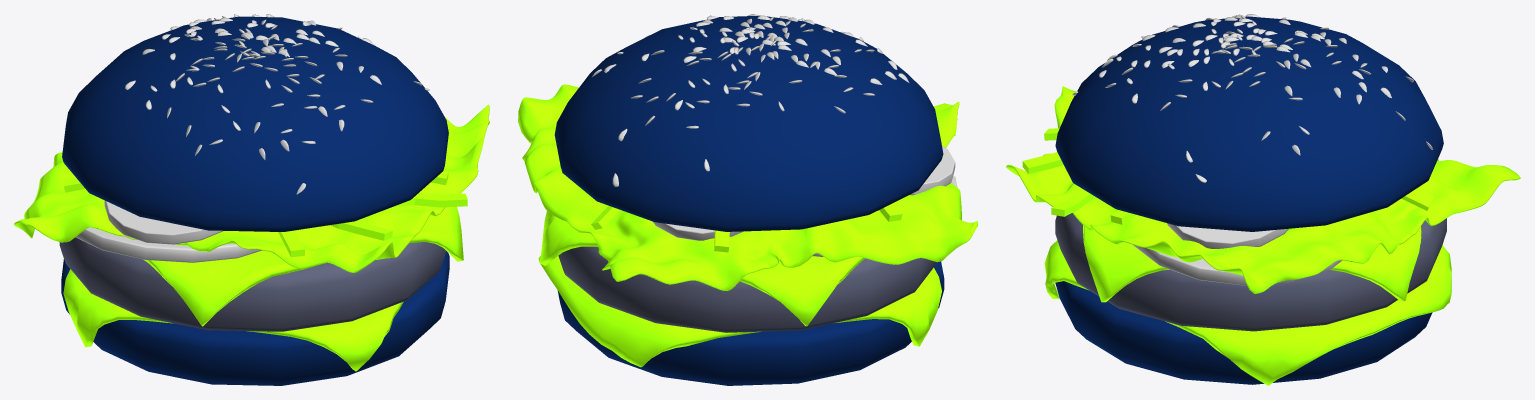
Rendered from Burger.fbx.
The picture shows the model from 3 angles, left to right: view 1: azimuth 30°, elevation 25°; view 2: azimuth 150°, elevation 25°; view 3: azimuth 270°, elevation 25°; orthographic projection.
Visible parts, largest first — view 1: buns_Sphere_001, burger_Cylinder, lettuce_Plane_001, cheese_Cube_002, seeds_Sphere_002, tomatoes_Cylinder_004, onion_7_Cube_008, pickles_Cylinder_008; view 2: buns_Sphere_001, lettuce_Plane_001, burger_Cylinder, cheese_Cube_002, seeds_Sphere_002, pickles_Cylinder_008, onion_7_Cube_008; view 3: buns_Sphere_001, lettuce_Plane_001, cheese_Cube_002, burger_Cylinder, seeds_Sphere_002, onion_7_Cube_008, pickles_Cylinder_008, tomatoes_Cylinder_004.
Part boxes in pixels (x1,y1,x2,y2): buns_Sphere_001: [61, 16, 449, 385]; burger_Cylinder: [59, 237, 445, 331]; lettuce_Plane_001: [14, 104, 489, 272]; cheese_Cube_002: [63, 206, 463, 371]; seeds_Sphere_002: [125, 14, 429, 194]; tomatoes_Cylinder_004: [75, 227, 261, 262]; onion_7_Cube_008: [64, 171, 467, 257]; pickles_Cylinder_008: [104, 200, 222, 244]; buns_Sphere_001: [554, 15, 944, 385]; lettuce_Plane_001: [518, 84, 977, 290]; burger_Cylinder: [558, 246, 937, 332]; cheese_Cube_002: [538, 211, 941, 367]; seeds_Sphere_002: [592, 14, 909, 186]; pickles_Cylinder_008: [652, 146, 955, 240]; onion_7_Cube_008: [591, 203, 902, 252]; buns_Sphere_001: [1055, 16, 1443, 384]; lettuce_Plane_001: [1006, 86, 1520, 293]; cheese_Cube_002: [1044, 225, 1451, 385]; burger_Cylinder: [1055, 213, 1446, 331]; seeds_Sphere_002: [1072, 14, 1433, 182]; onion_7_Cube_008: [1022, 128, 1433, 224]; pickles_Cylinder_008: [1167, 223, 1288, 248]; tomatoes_Cylinder_004: [1133, 245, 1342, 285].
Size of the model in its own units: 119 by 67.9 by 116.
